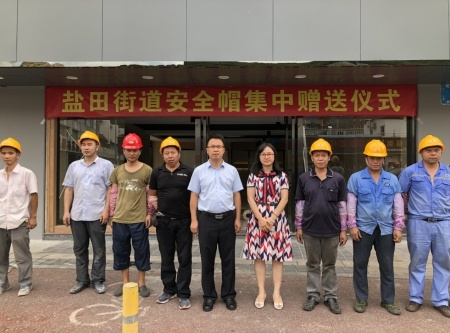none: (203, 133, 226, 162), (256, 141, 278, 170)
red: (119, 132, 143, 162)
yellow: (307, 137, 334, 171), (417, 133, 444, 166), (361, 138, 388, 170), (157, 136, 183, 166), (76, 128, 101, 159), (1, 137, 23, 168)
